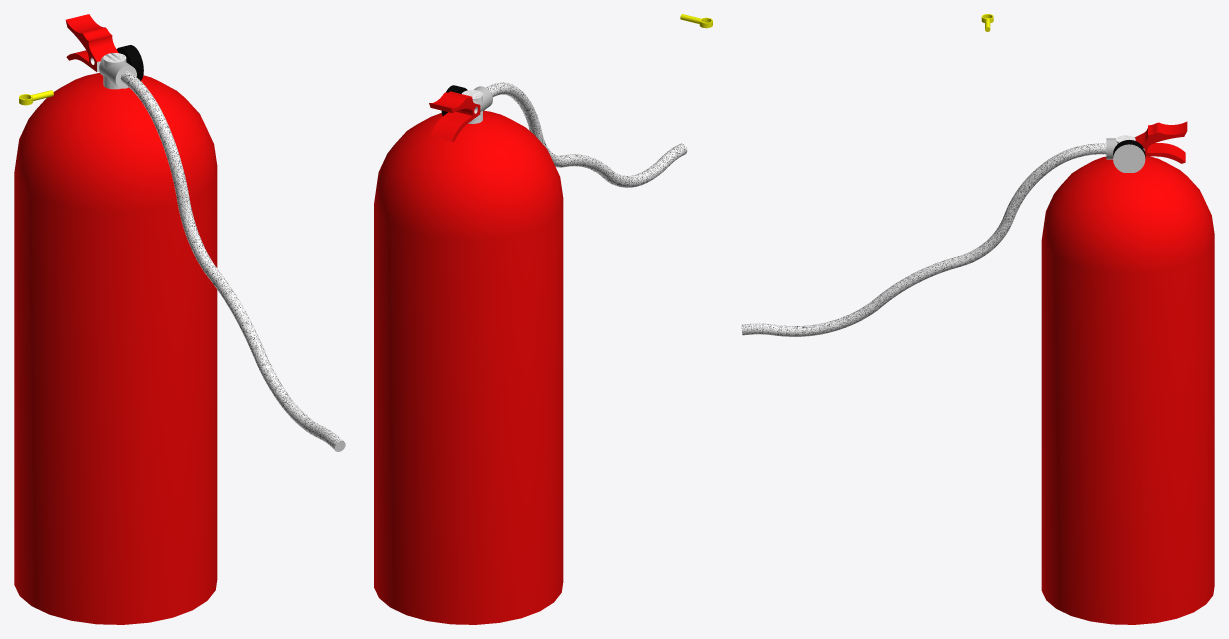
File: Extintor.dae
The picture shows the model from 3 angles, left to right: view 1: azimuth 30°, elevation 25°; view 2: azimuth 150°, elevation 25°; view 3: azimuth 270°, elevation 25°; orthographic projection. The views are drawn at different scales.
Visible parts, largest first — view 1: SketchUp (×5); view 2: SketchUp (×4); view 3: SketchUp (×4).
Part boxes in pixels (x1,y1,x2,y2): SketchUp (×5): [14, 14, 343, 624]; SketchUp (×4): [374, 82, 687, 624]; SketchUp (×4): [741, 121, 1214, 624].
Size of the model in its own units: 19.05 by 34.4 by 40.14.
